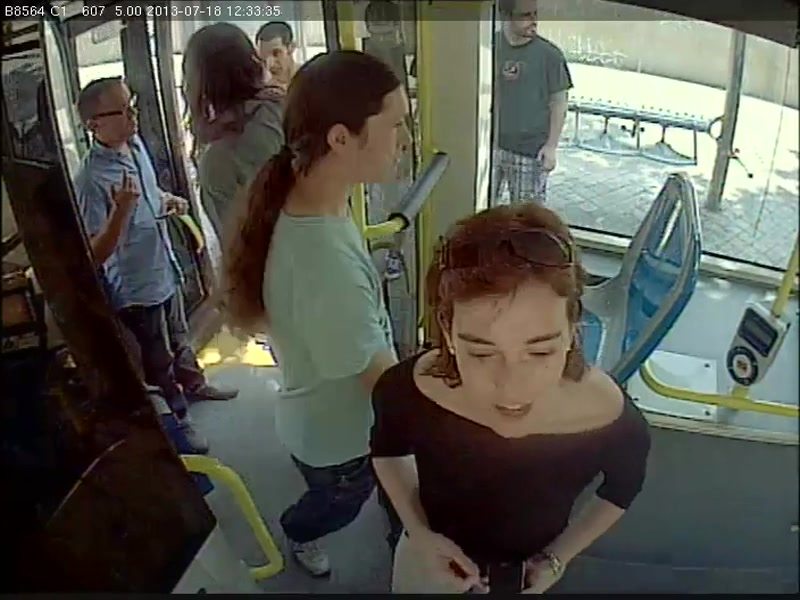Head: (427, 200, 603, 445), (284, 36, 421, 194), (176, 19, 262, 123), (76, 68, 152, 153)
